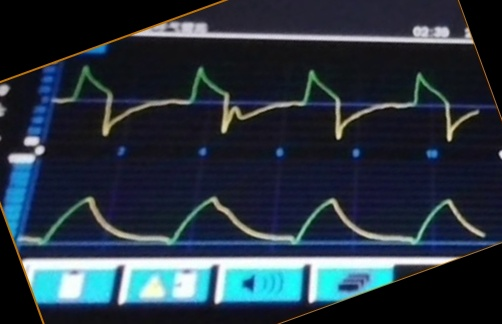Premature_cycling Flow: (64, 61, 479, 142)
Premature_cycling Volume: (33, 190, 483, 250)
